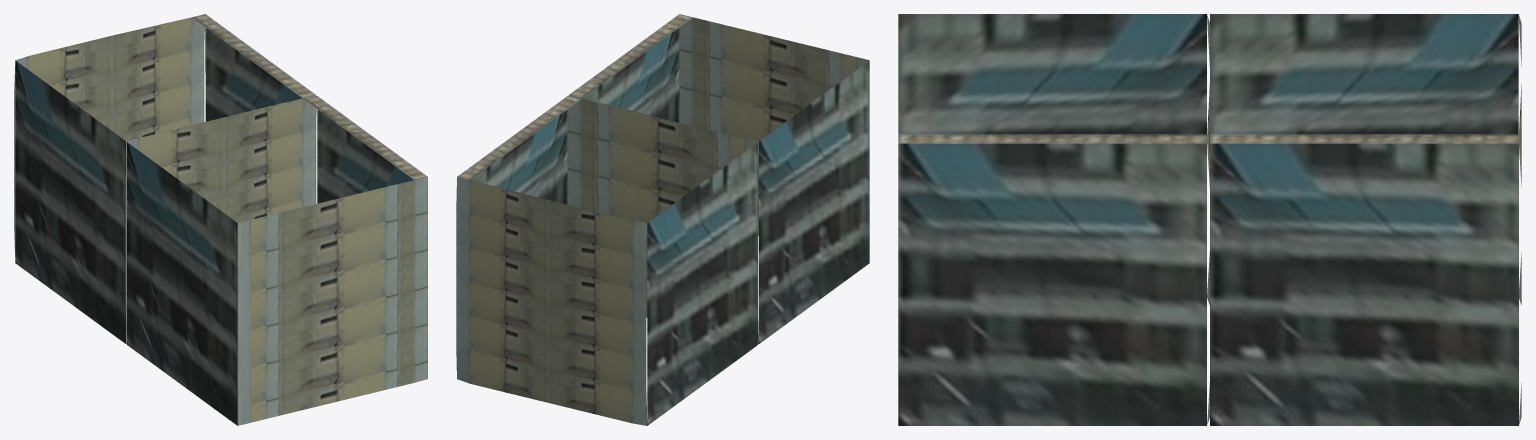
3 renders of one model, left to right at view 1: azimuth 30°, elevation 25°; view 2: azimuth 150°, elevation 25°; view 3: azimuth 270°, elevation 25°, orthographic. The views are drawn at different scales.
Visible parts, largest first — view 1: orto-edificio22-completo.052; view 2: orto-edificio22-completo.052; view 3: orto-edificio22-completo.052.
Part boxes in pixels (bbox=[...]): orto-edificio22-completo.052: bbox=[14, 14, 427, 425]; orto-edificio22-completo.052: bbox=[456, 14, 869, 425]; orto-edificio22-completo.052: bbox=[898, 14, 1521, 425].
Size of the model in its own units: 2.05 by 2.09 by 4.17.
Materials: 2 (2 with a texture image).
